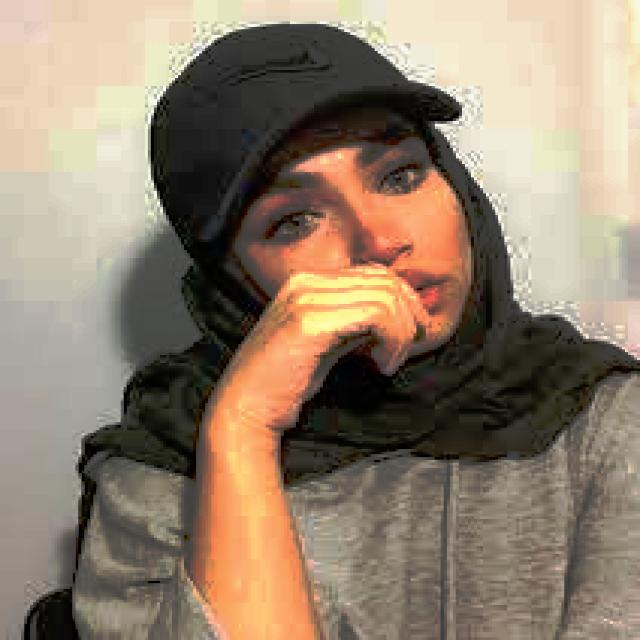TOPI: (136, 11, 459, 255)
